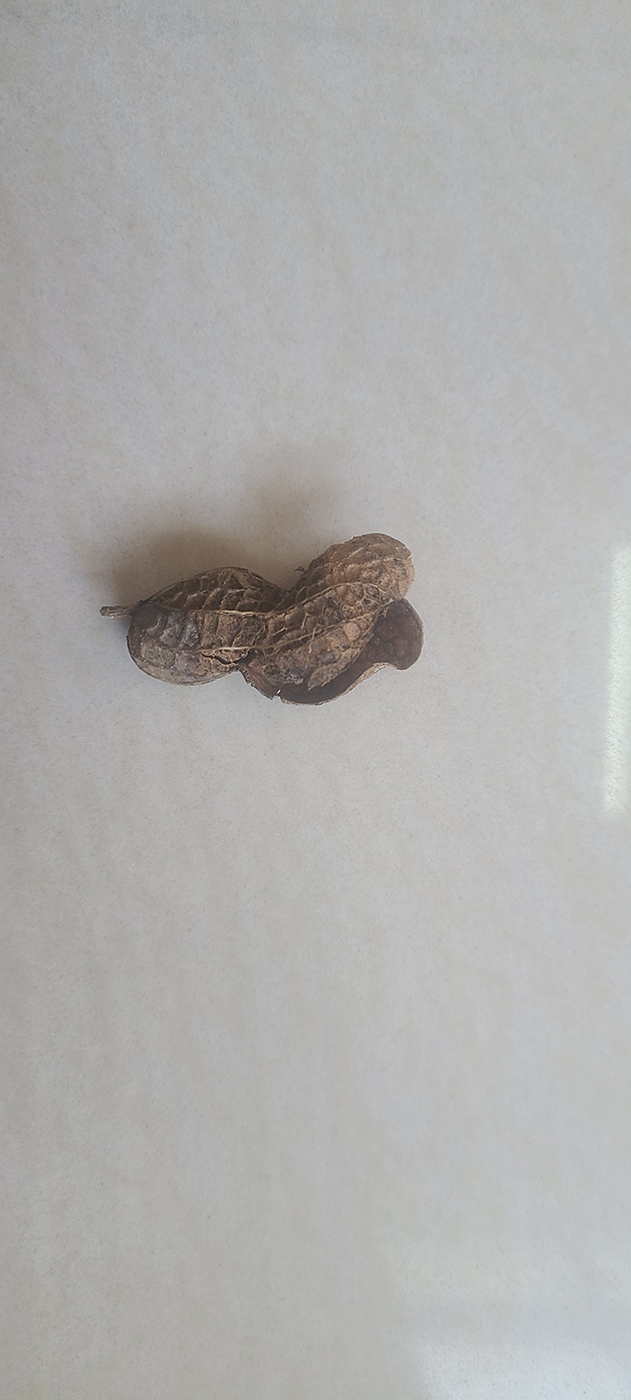l: (127, 534, 431, 708)
